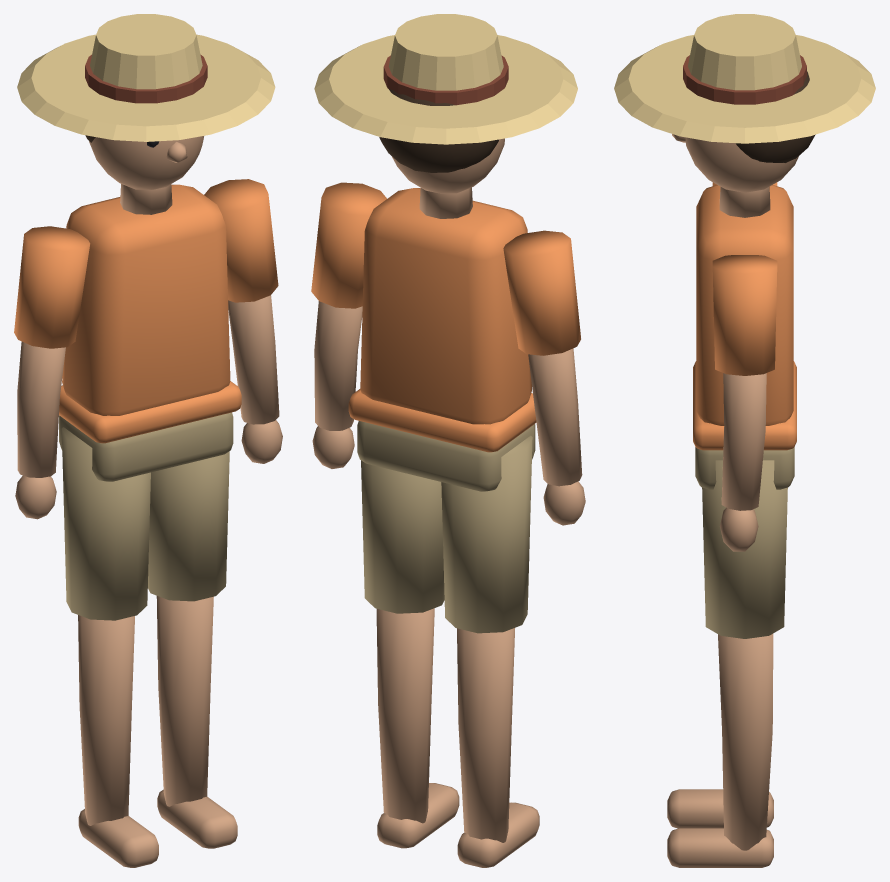
File: Player.fbx
3 views of the same model, side by side, from view 1: azimuth 30°, elevation 25°; view 2: azimuth 150°, elevation 25°; view 3: azimuth 270°, elevation 25° (orthographic). The views are drawn at different scales.
Visible parts, largest first — view 1: Player_Torso, Player_HatBrim, Player_ShortsR, Player_ShortsL, Player_LegL, Player_LegR, Player_SleeveR, Player_HatCrown, Player_ArmR, Player_ArmL, Player_Waist, Player_SleeveL (+6 smaller); view 2: Player_Torso, Player_HatBrim, Player_ShortsR, Player_ShortsL, Player_LegL, Player_LegR, Player_SleeveR, Player_HatCrown, Player_ArmR, Player_ArmL, Player_Waist, Player_SleeveL (+7 smaller); view 3: Player_HatBrim, Player_Torso, Player_ShortsL, Player_LegL, Player_SleeveL, Player_HatCrown, Player_ArmL, Player_FootL, Player_Head, Player_FootR, Player_ShirtHem, Player_HatBand (+3 smaller).
Part boxes in pixels (x1=…): Player_Torso: x1=62, y1=184, x2=230, y2=415; Player_HatBrim: x1=17, y1=34, x2=275, y2=141; Player_ShortsR: x1=61, y1=427, x2=150, y2=620; Player_ShortsL: x1=148, y1=451, x2=229, y2=601; Player_LegL: x1=156, y1=596, x2=213, y2=806; Player_LegR: x1=78, y1=615, x2=134, y2=825; Player_SleeveR: x1=14, y1=226, x2=90, y2=348; Player_HatCrown: x1=90, y1=14, x2=202, y2=89; Player_ArmR: x1=15, y1=341, x2=65, y2=519; Player_ArmL: x1=228, y1=295, x2=282, y2=463; Player_Waist: x1=59, y1=412, x2=233, y2=481; Player_SleeveL: x1=204, y1=179, x2=278, y2=302; Player_Torso: x1=360, y1=188, x2=531, y2=424; Player_HatBrim: x1=314, y1=35, x2=577, y2=144; Player_ShortsR: x1=441, y1=435, x2=532, y2=633; Player_ShortsL: x1=361, y1=460, x2=444, y2=613; Player_LegL: x1=376, y1=608, x2=434, y2=823; Player_LegR: x1=457, y1=628, x2=514, y2=842; Player_SleeveR: x1=503, y1=230, x2=580, y2=355; Player_HatCrown: x1=388, y1=14, x2=503, y2=90; Player_ArmR: x1=528, y1=348, x2=585, y2=525; Player_ArmL: x1=312, y1=301, x2=362, y2=468; Player_Waist: x1=357, y1=421, x2=535, y2=491; Player_SleeveL: x1=311, y1=182, x2=386, y2=308; Player_HatBrim: x1=614, y1=35, x2=875, y2=143; Player_Torso: x1=696, y1=185, x2=793, y2=425; Player_ShortsL: x1=702, y1=460, x2=787, y2=638; Player_LegL: x1=718, y1=634, x2=773, y2=850; Player_SleeveL: x1=712, y1=255, x2=777, y2=375; Player_HatCrown: x1=688, y1=14, x2=801, y2=90; Player_ArmL: x1=719, y1=373, x2=766, y2=551; Player_FootL: x1=667, y1=828, x2=773, y2=867; Player_Head: x1=685, y1=137, x2=798, y2=192; Player_FootR: x1=667, y1=789, x2=773, y2=828; Player_ShirtHem: x1=693, y1=361, x2=796, y2=450; Player_HatBand: x1=683, y1=55, x2=806, y2=104.
Size of the model in its own units: 0.6316 by 1.84 by 0.54.
